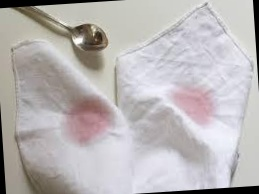wine: (57, 103, 118, 149), (172, 82, 215, 121)
